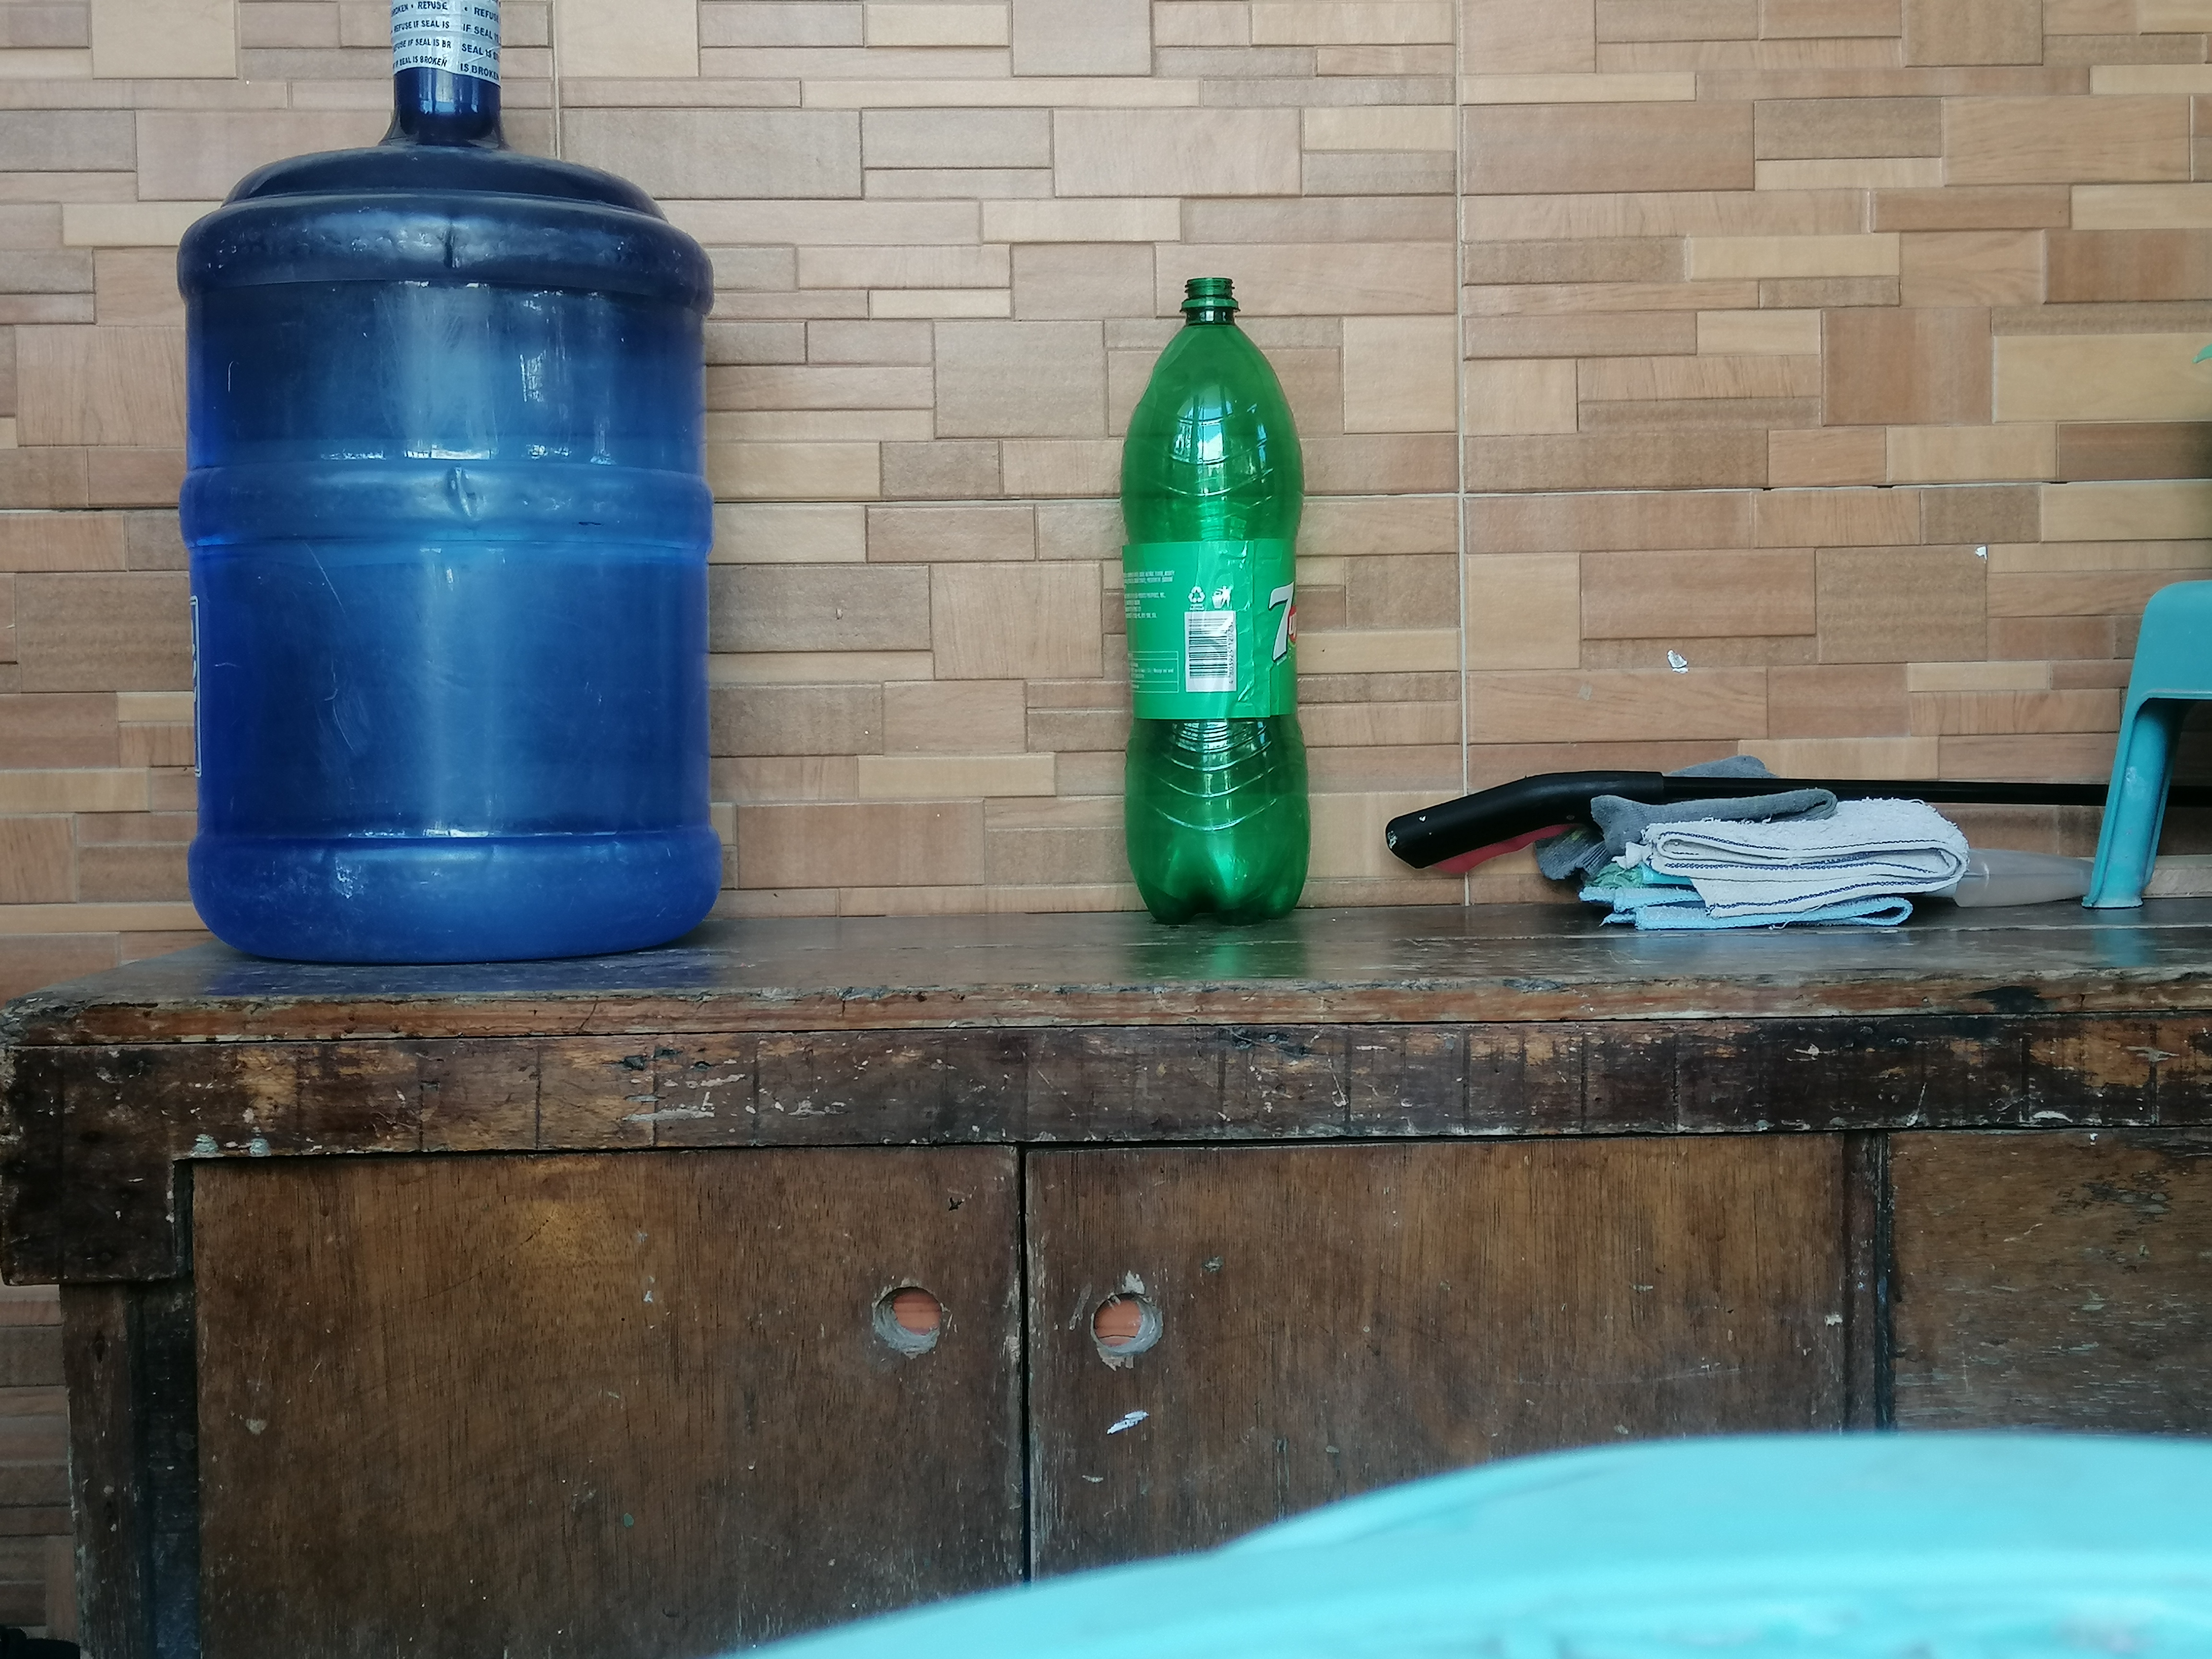bottle: (179, 3, 716, 960), (1120, 275, 1312, 924)
